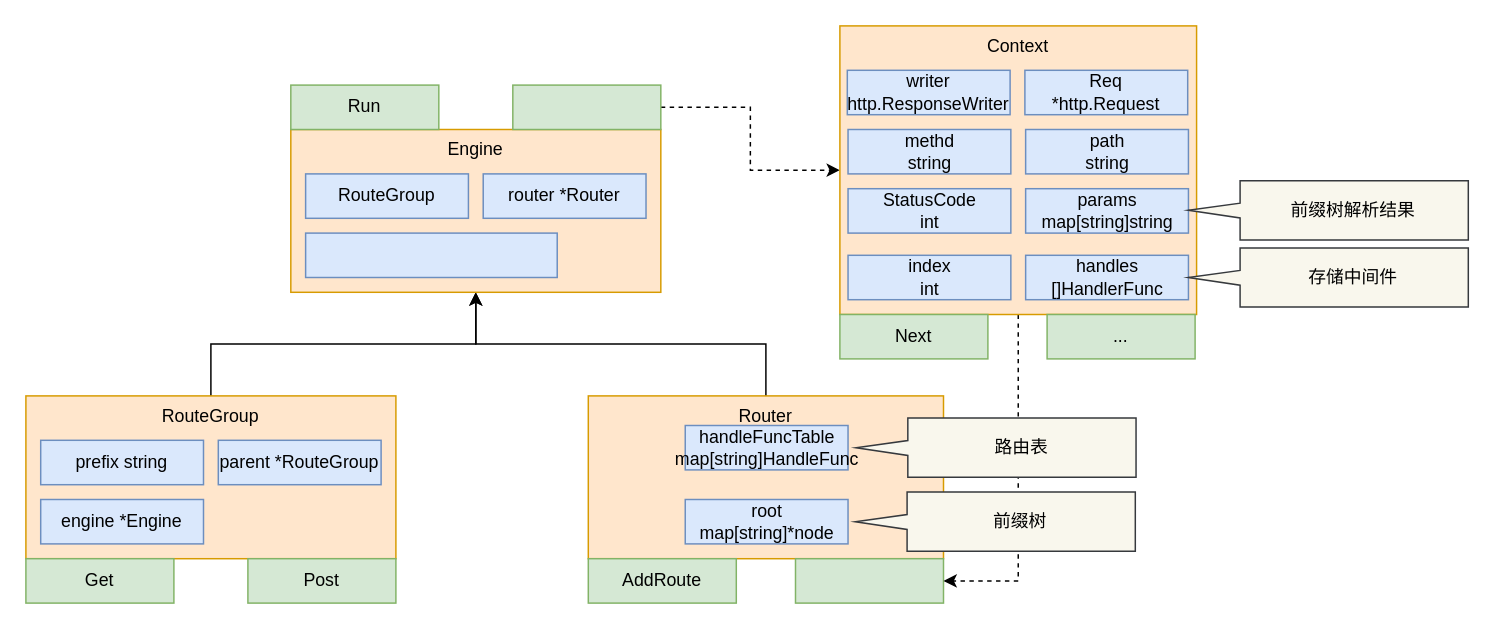
The diagram is 1495 pixels wide and 629 high, and some of its shapes have lost their labels. The shapes that lost their labels are listed below. From the top down, each one's centre as x and y in pixels, then its label:
[586,107]: ServeHTTP
[430,255]: routerGroups []*RouteGrop
[869,580]: Handle
